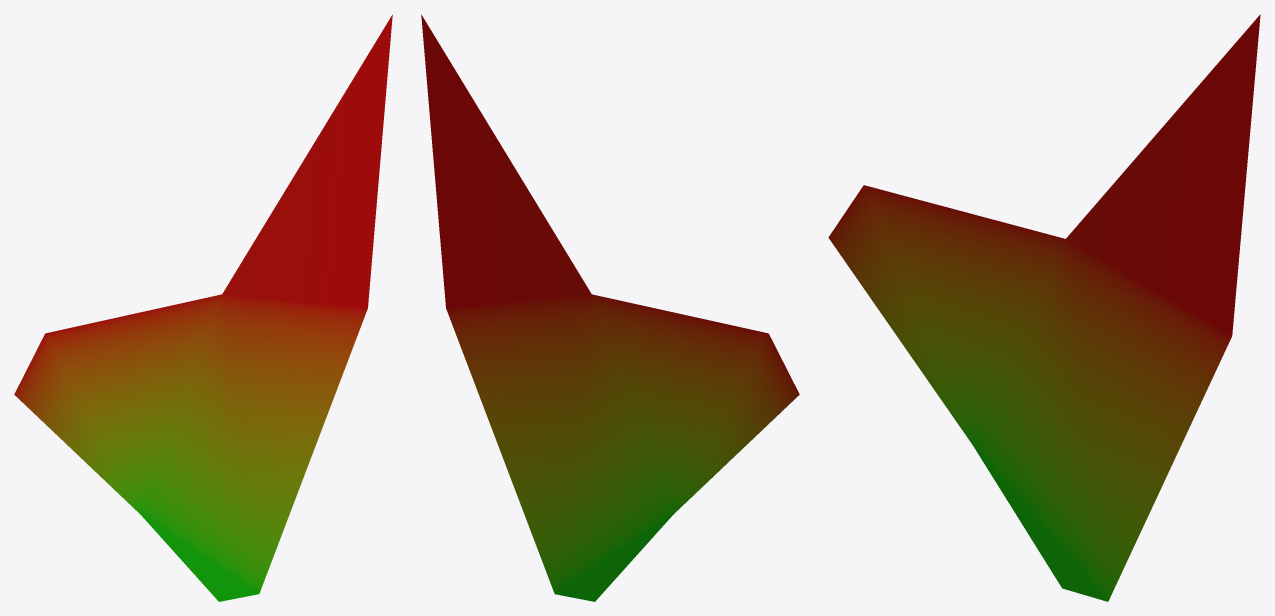
Rendered from Var5_LOD3.fbx.
The picture shows the model from 3 angles, left to right: view 1: azimuth 30°, elevation 25°; view 2: azimuth 150°, elevation 25°; view 3: azimuth 330°, elevation 25°; orthographic projection. The views are drawn at different scales.
Parts seen in each view (by area): view 1: _a0e2_Var5_LOD3; view 2: _a0e2_Var5_LOD3; view 3: _a0e2_Var5_LOD3.
Part boxes in pixels (box(x1,y1,x2,y2)): _a0e2_Var5_LOD3: box(14, 14, 392, 601); _a0e2_Var5_LOD3: box(421, 14, 799, 601); _a0e2_Var5_LOD3: box(828, 14, 1260, 601).
Bounding box in the file's own units: 16.11 × 22.27 × 9.54e-07.
